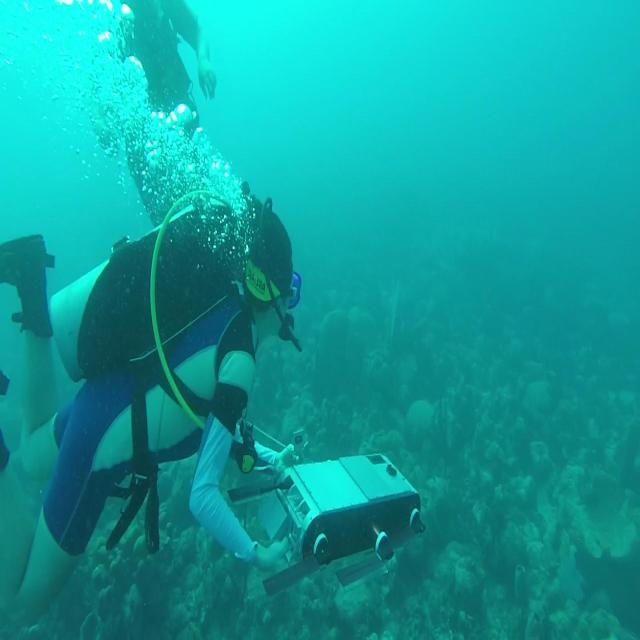human: (2, 178, 304, 631), (78, 0, 248, 259)
